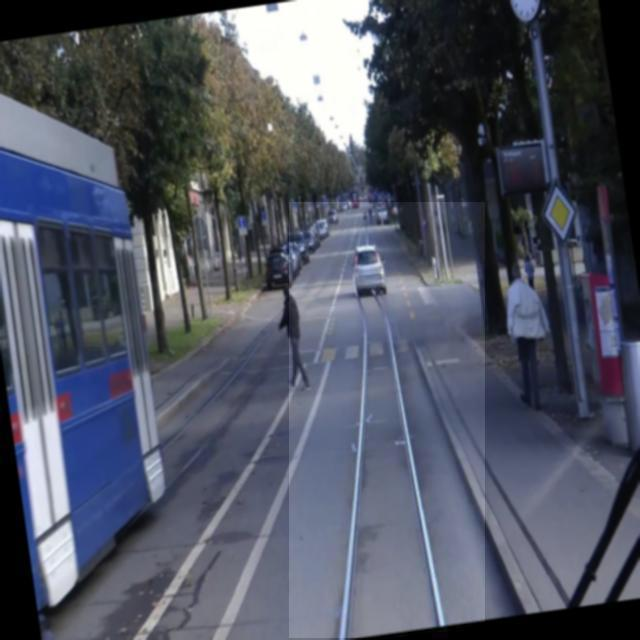rail: (290, 203, 486, 639)
